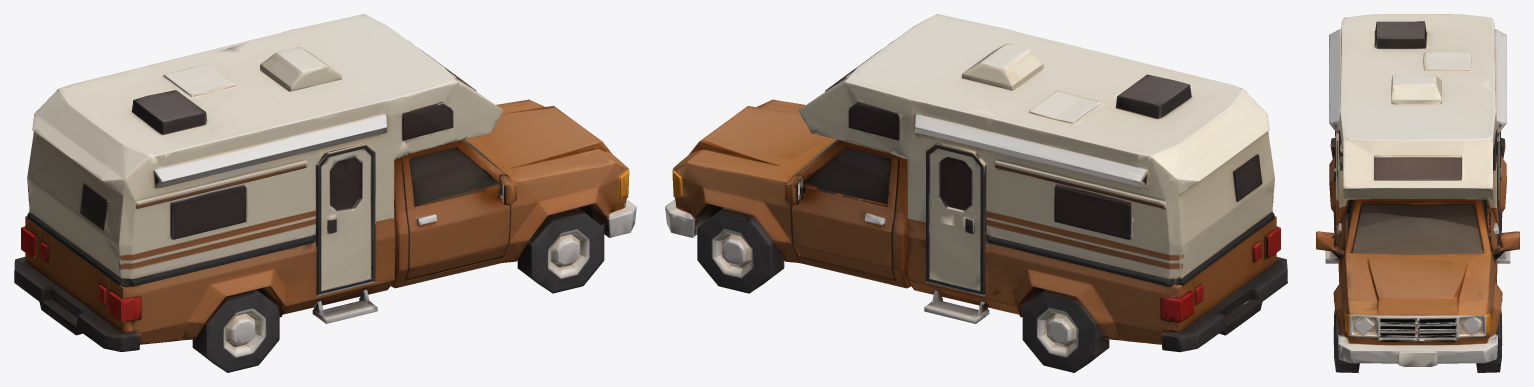
The model's file is car8.fbx.
3 views of the same model, side by side, from view 1: azimuth 30°, elevation 25°; view 2: azimuth 150°, elevation 25°; view 3: azimuth 270°, elevation 25° (orthographic). The views are drawn at different scales.
Parts seen in each view (by area): view 1: node_0; view 2: node_0; view 3: node_0.
Part boxes in pixels (box(x1,y1,x2,y2)): node_0: box(14, 14, 636, 372); node_0: box(665, 14, 1287, 372); node_0: box(1316, 14, 1519, 372).
Size of the model in its own units: 112 by 49.11 by 45.23.
